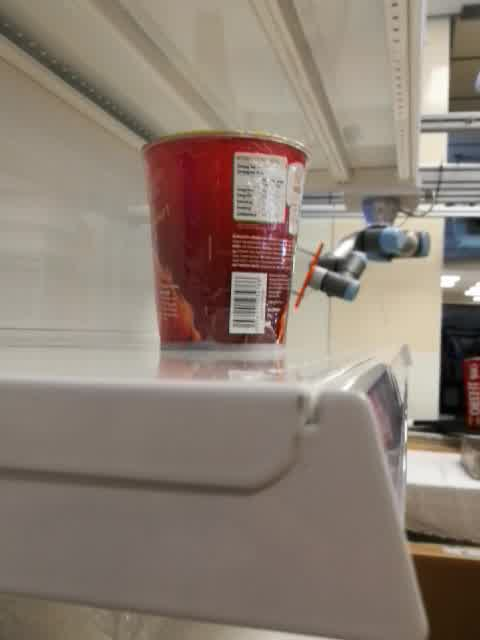maggi: (142, 128, 311, 361)
